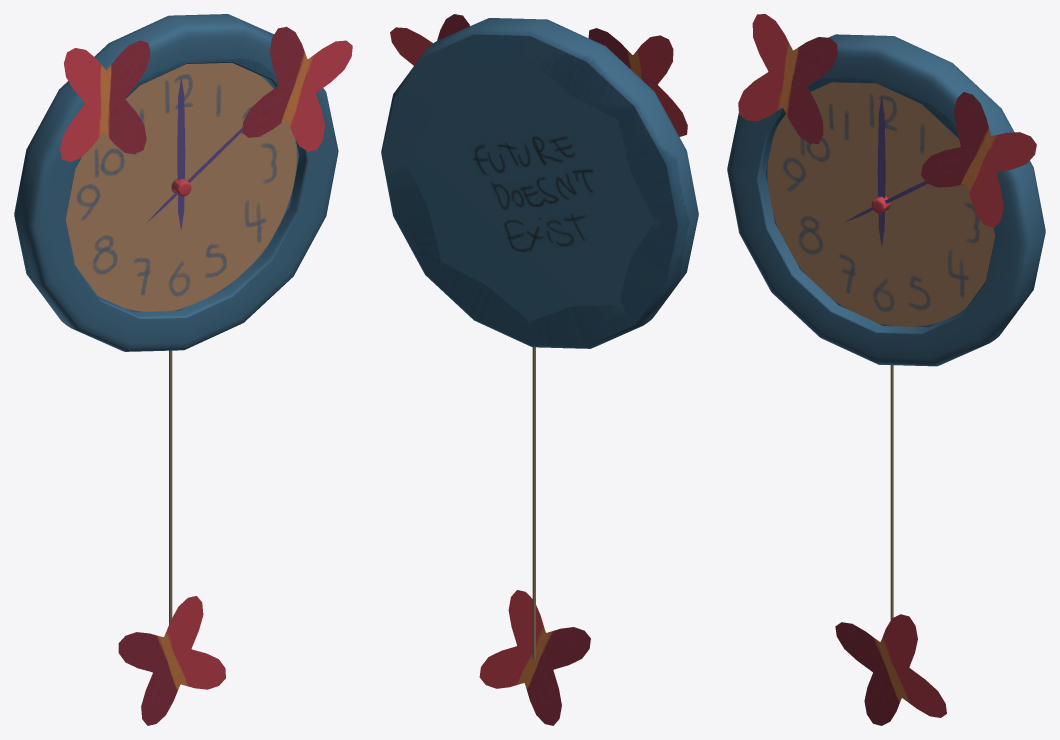
Rendered from clock.fbx.
3 views of the same model, side by side, from view 1: azimuth 30°, elevation 25°; view 2: azimuth 150°, elevation 25°; view 3: azimuth 330°, elevation 25° (orthographic). The views are drawn at different scales.
Visible parts, largest first — view 1: tex (16); view 2: tex (16); view 3: tex (16).
Part boxes in pixels (x1,y1,x2,y2): tex (16): [14, 14, 352, 725]; tex (16): [381, 14, 698, 725]; tex (16): [727, 14, 1045, 725].
Bounding box in the file's own units: 150 × 319 × 23.34.
1 material, 1 textured.
